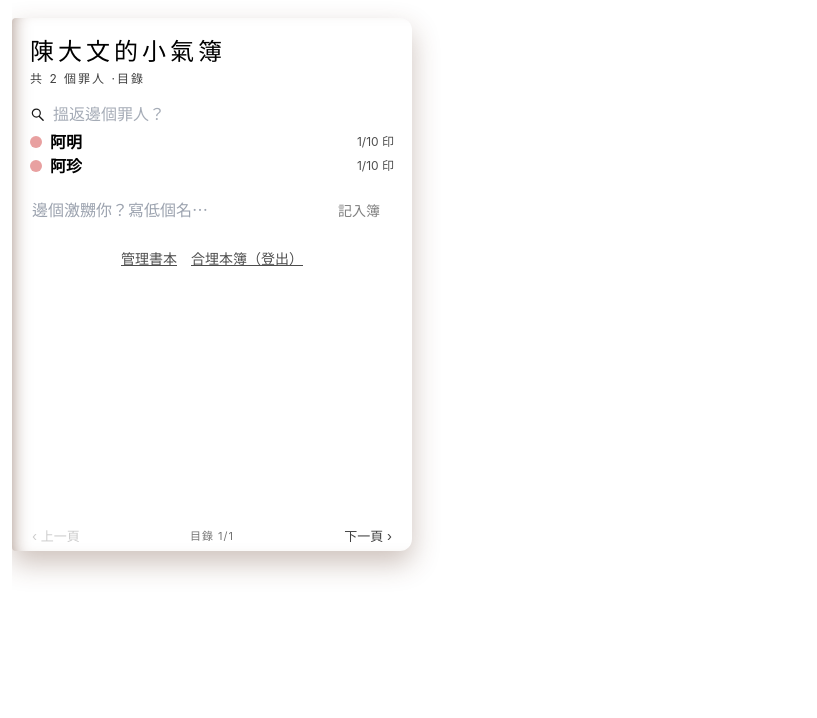
書末 sits after the last friend chapter in the reading order
The image size is (817, 718).
Check: the text "目錄 1/1" is shown, box [190,528,234,544]
Click the button "下一頁 ›" at (368, 536), box [340,524,396,548]
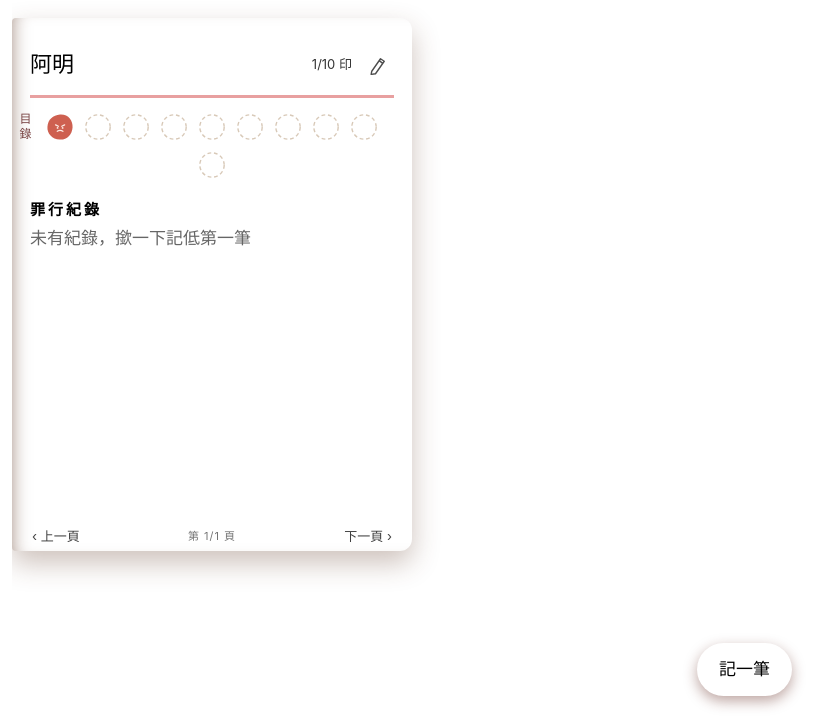
Check: the heading "阿明" is shown, box [30,51,74,77]
Click the button "下一頁 ›" at (368, 536), box [340,524,396,548]
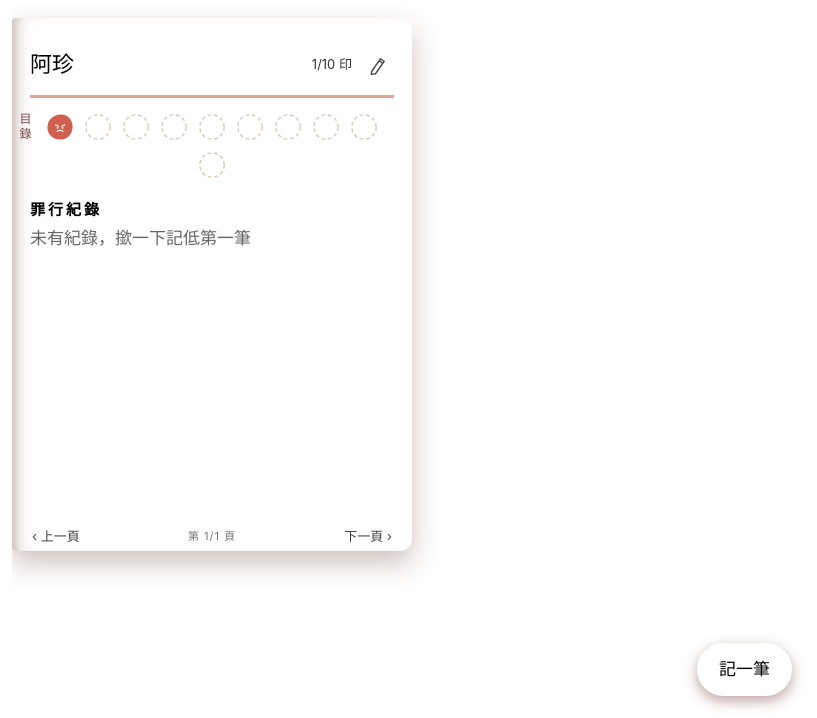
Check: the heading "阿珍" is shown, box [30,51,74,77]
Click the button "下一頁 ›" at (368, 536), box [340,524,396,548]
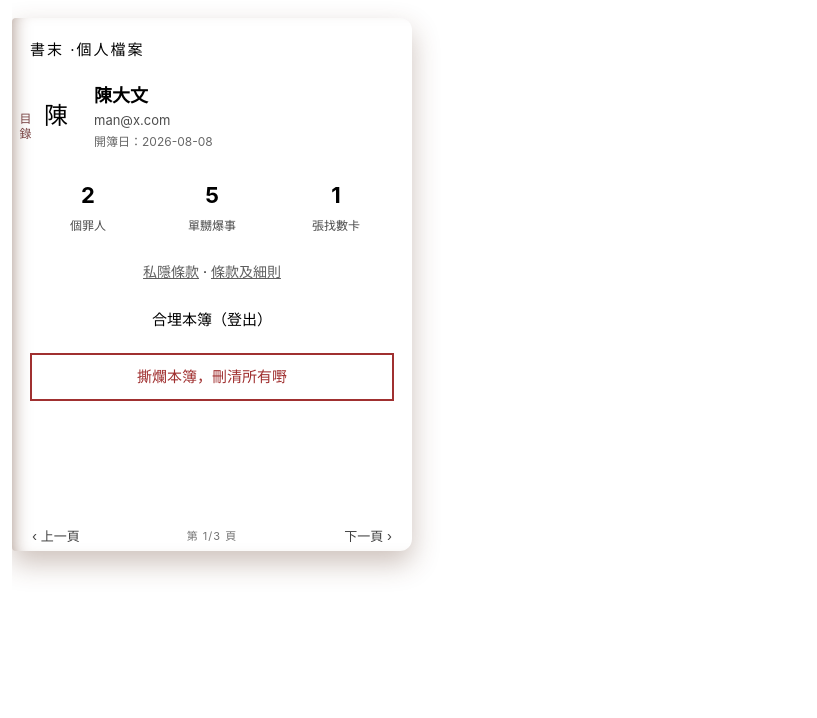
Check: the text "書末 ·個人檔案" is shown, box [30,40,144,59]
